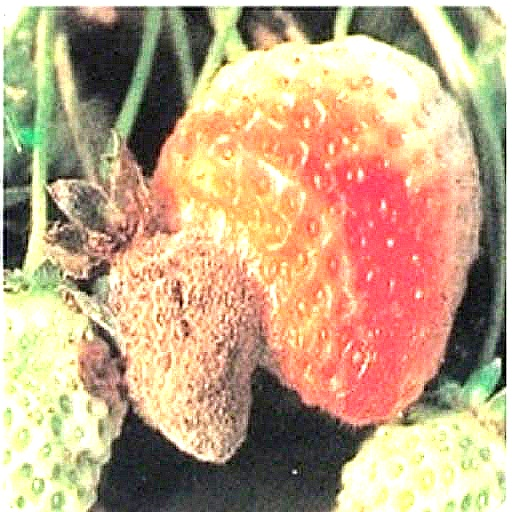Gray Mold: (39, 131, 270, 465)
